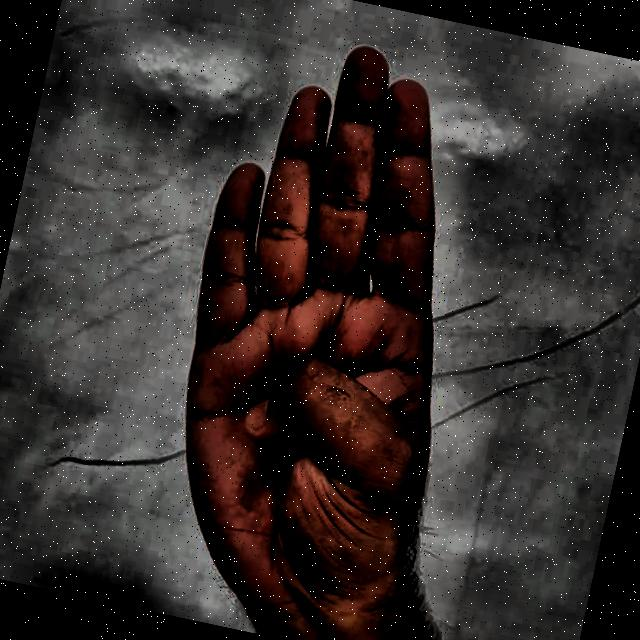Ba: (90, 0, 567, 640)
